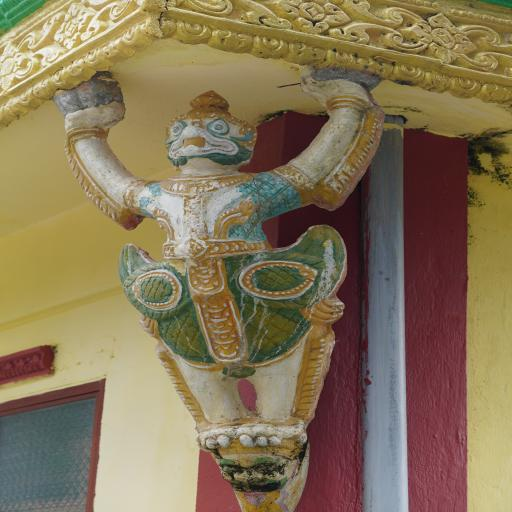hoa: (382, 3, 512, 71), (253, 0, 388, 44), (27, 0, 119, 49)
than: (33, 59, 451, 512)
